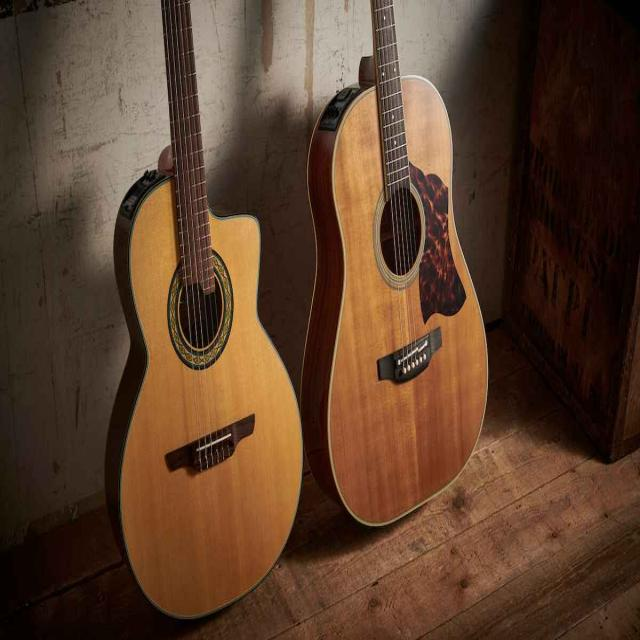guitar: (107, 0, 303, 619), (301, 0, 487, 526)
